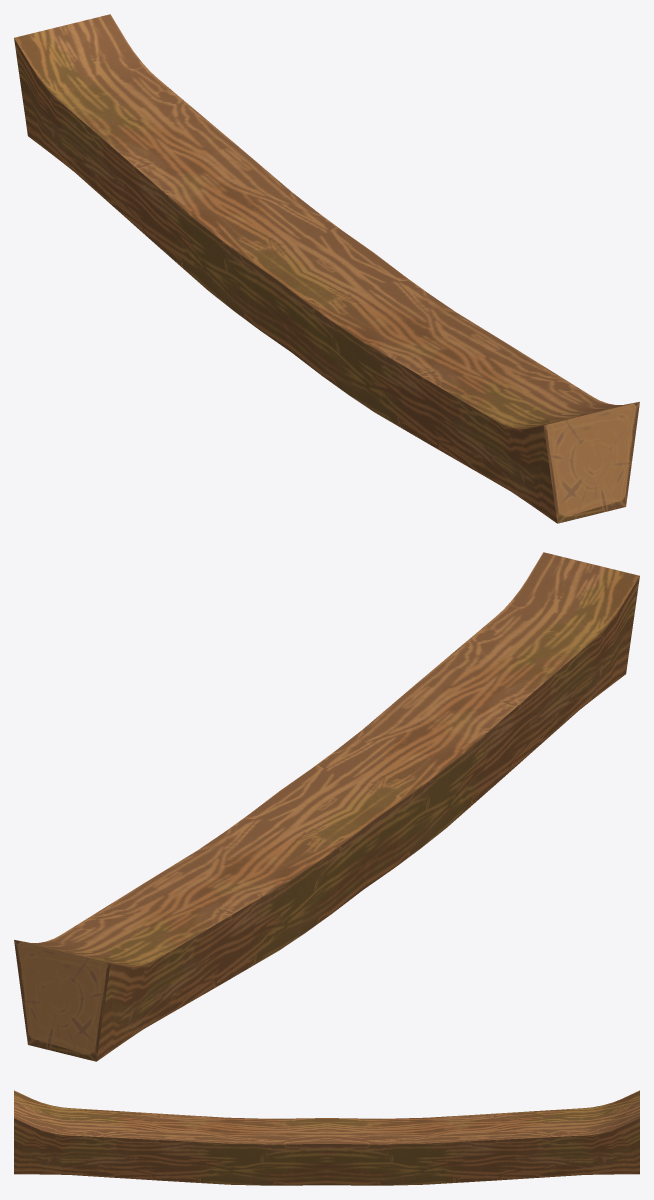
Rendered from roof_log.glb.
3 renders of one model, top to bottom at view 1: azimuth 30°, elevation 25°; view 2: azimuth 150°, elevation 25°; view 3: azimuth 270°, elevation 25°, orthographic. The views are drawn at different scales.
Parts seen in each view (by area): view 1: Roof_Log; view 2: Roof_Log; view 3: Roof_Log.
Boxes of the visible parts, <box> form: Roof_Log: <box>14,14,639,523</box>; Roof_Log: <box>14,552,639,1061</box>; Roof_Log: <box>14,1090,639,1185</box>.
Size of the model in its own units: 1.15 by 1.39 by 10.7.
1 material, 1 textured.
